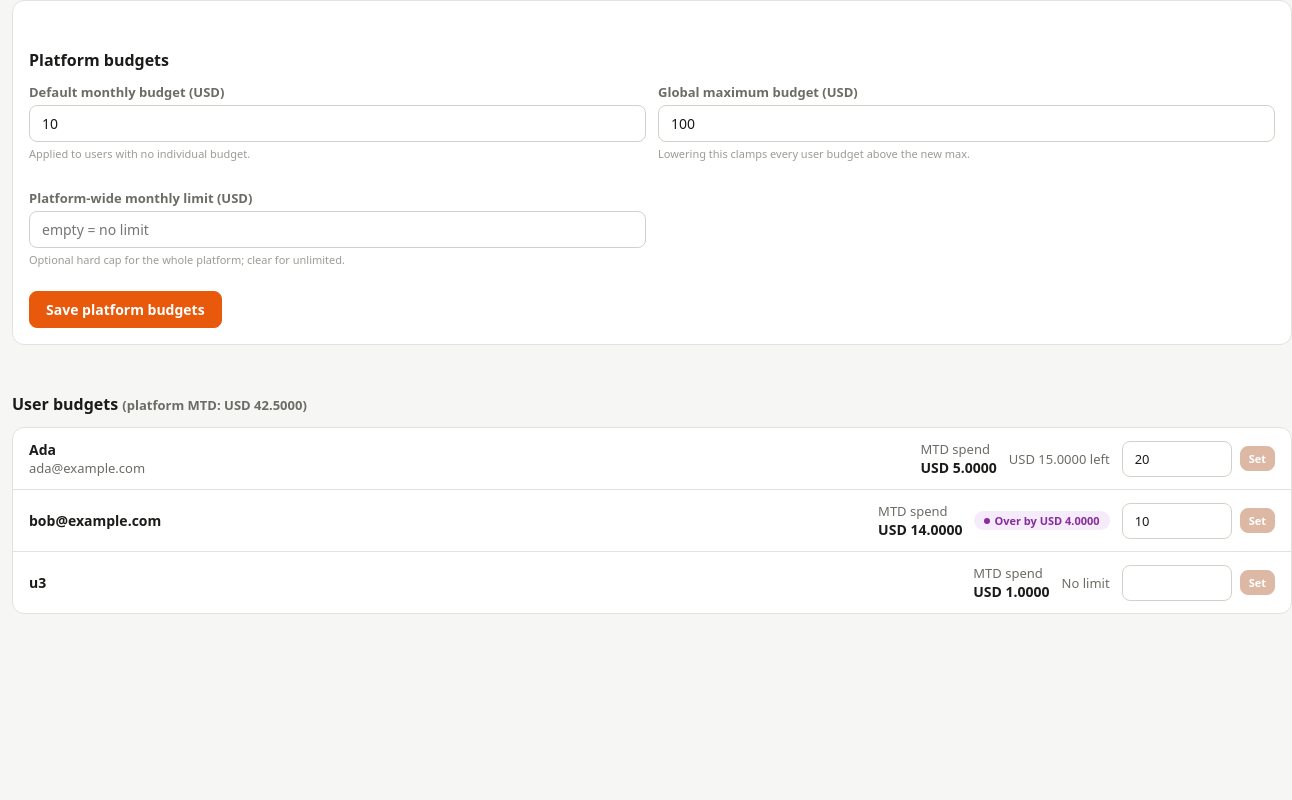
Scenario: PlatformBudgetForm › rejects invalid knob input client-side
Replace the text in the field labelled "Default monthly budget" with "abc" at (338, 124), box [29,105,646,142]
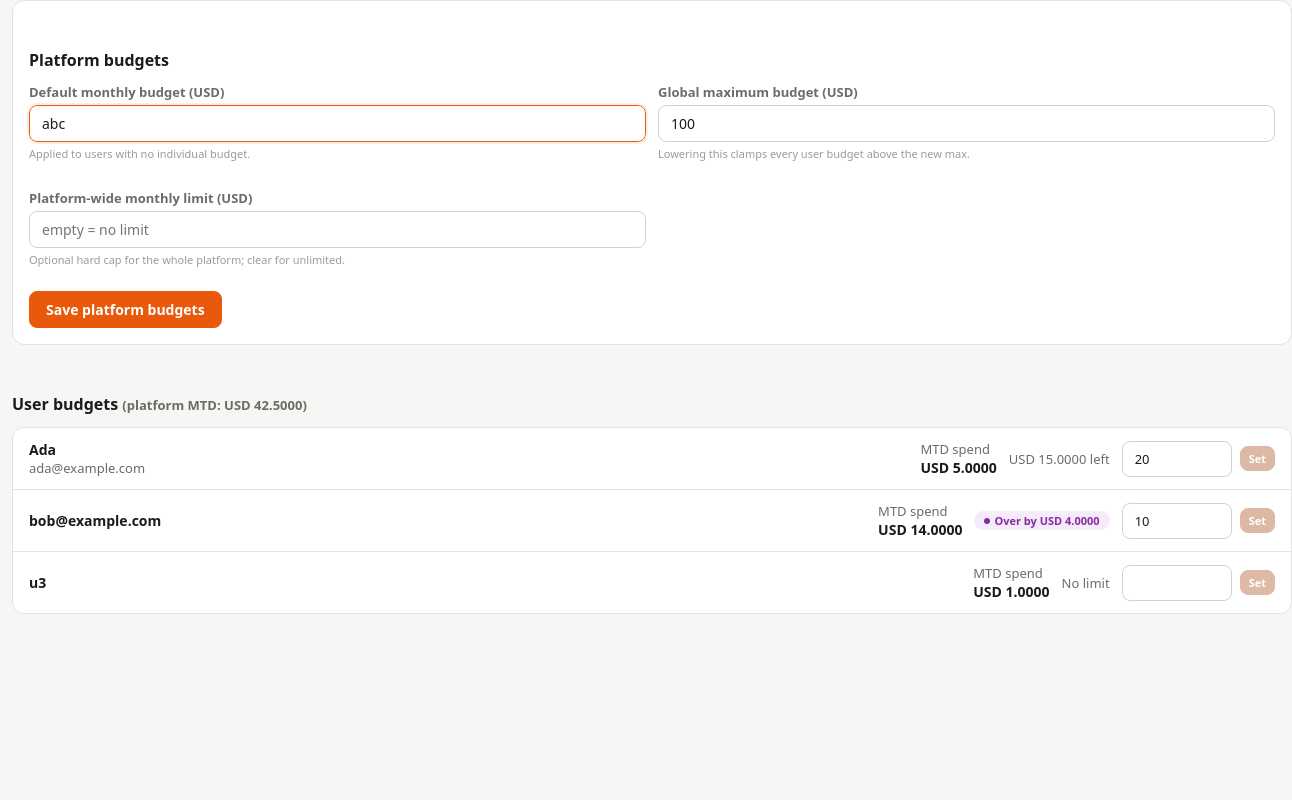
Click the button "Save platform budgets".
click(125, 310)  # box [29,291,222,328]
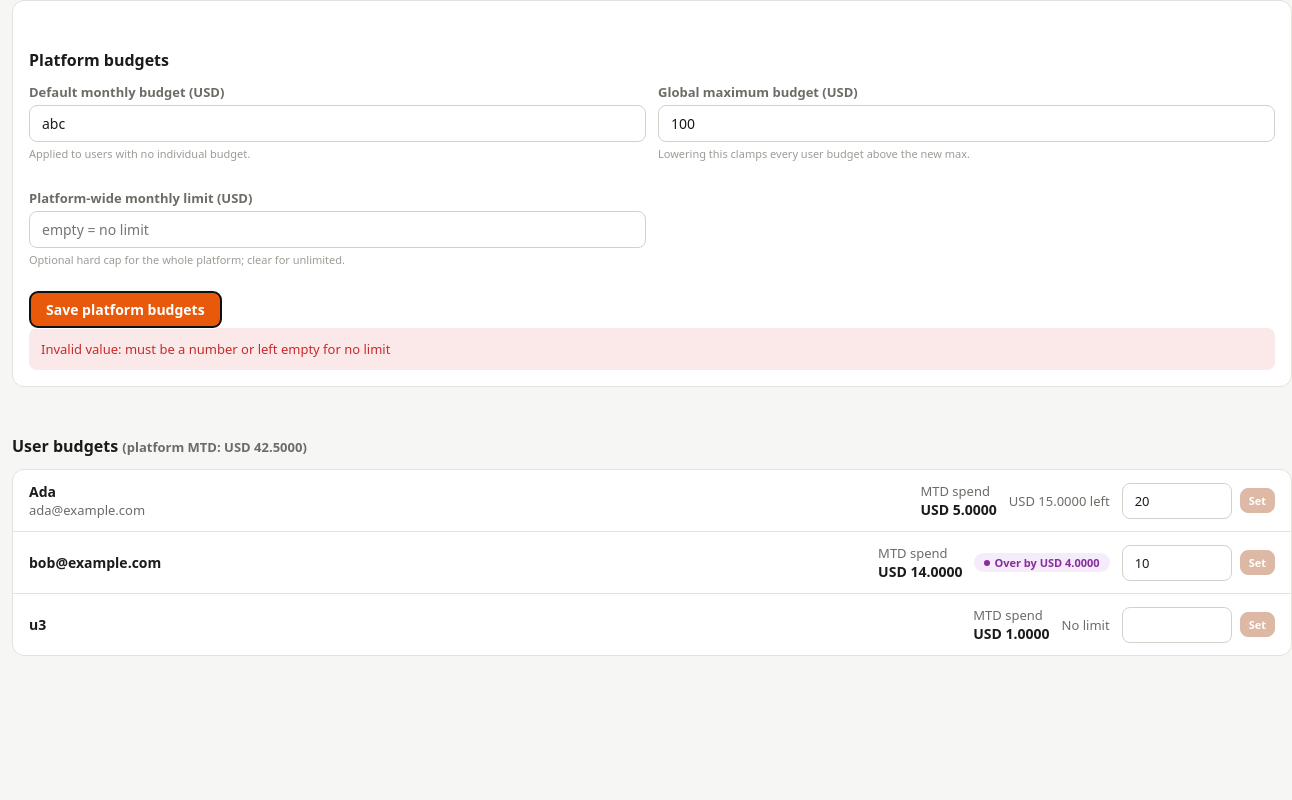
Now the text "Invalid value: must be a number or left empty for no limit" is shown, box [29,328,1275,370]
